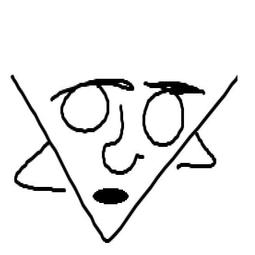ear: (11, 132, 71, 197), (172, 135, 222, 172)
empty_eye: (56, 71, 115, 136), (137, 79, 188, 153)
large_nose: (99, 100, 145, 181)
open_mouth: (90, 185, 130, 207)
